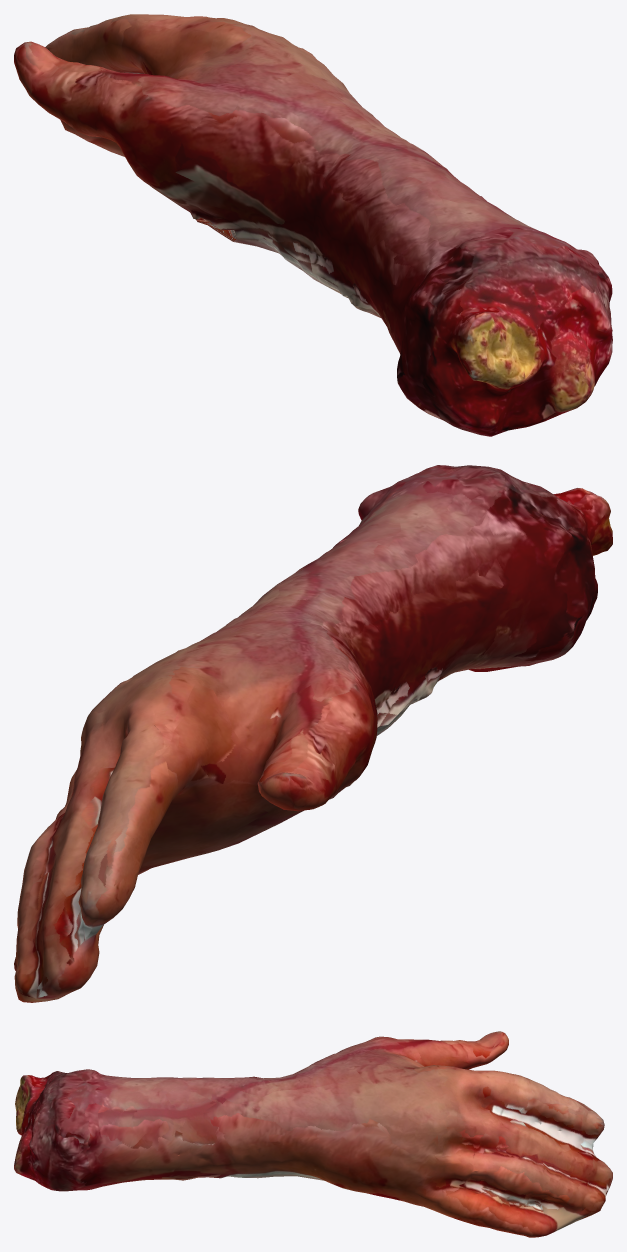
File: halloween_rubber_arm.glb
3 views of the same model, one above another, from view 1: azimuth 30°, elevation 25°; view 2: azimuth 150°, elevation 25°; view 3: azimuth 270°, elevation 25° (orthographic). The views are drawn at different scales.
Parts seen in each view (by area): view 1: model; view 2: model; view 3: model.
Part boxes in pixels (x1,y1,x2,y2): model: (14, 14, 612, 436); model: (14, 465, 612, 1002); model: (14, 1031, 612, 1237).
Bounding box in the file's own units: 0.2059 × 0.1719 × 0.6209.
1 material, 1 textured.
